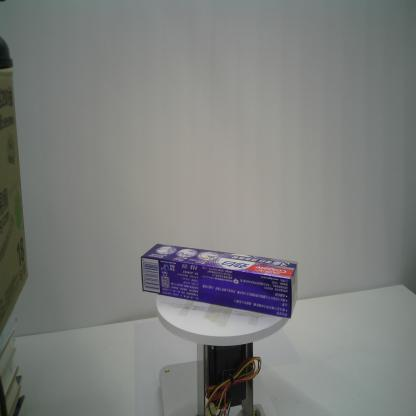Personal Hygiene: (140, 242, 299, 320)
